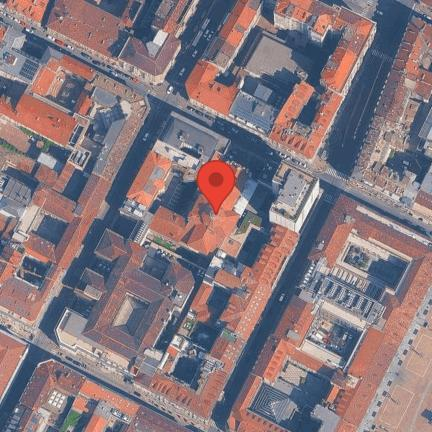area_open: (367, 317, 432, 431)
built: (56, 112, 317, 418), (230, 200, 432, 430), (0, 26, 147, 326), (182, 0, 380, 159), (349, 8, 431, 220), (4, 2, 205, 85), (6, 353, 199, 430), (0, 327, 29, 408)
